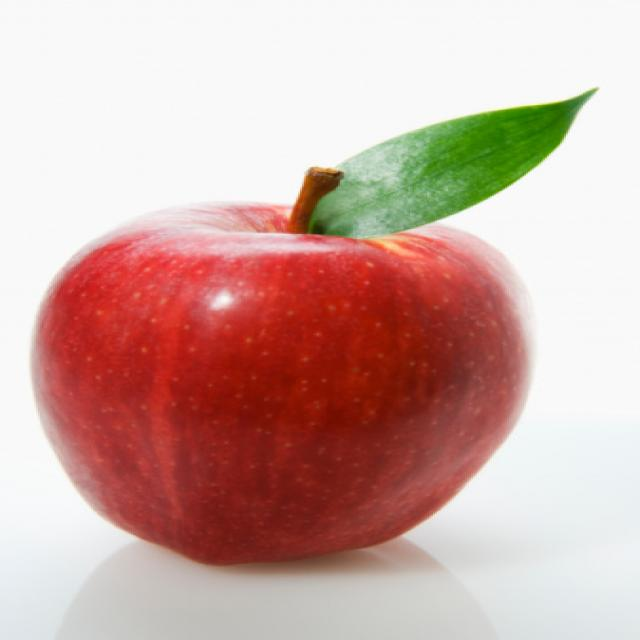Apple: (50, 89, 595, 565)
